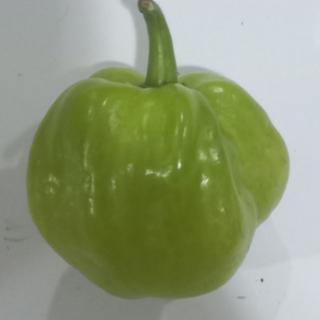Grade-B: (18, 57, 295, 301)
